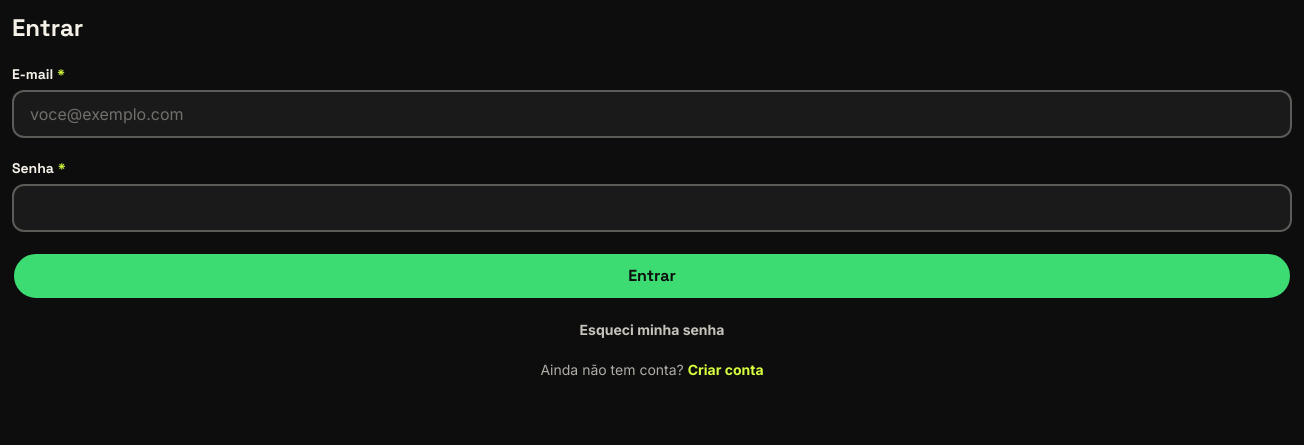
Test: LoginForm (U01) › mostra erros claros com campos vazios/inválidos (RF09)
In the field labelled "E-mail*": point(652, 114) [12,90,1292,138], type "invalido"
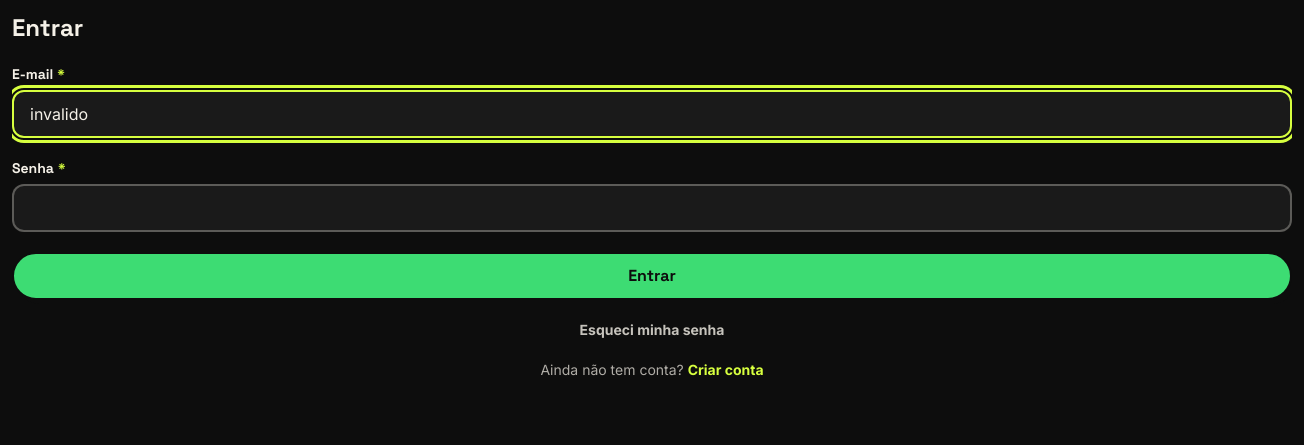
Click the button "Entrar": point(652, 276) [12,252,1292,300]
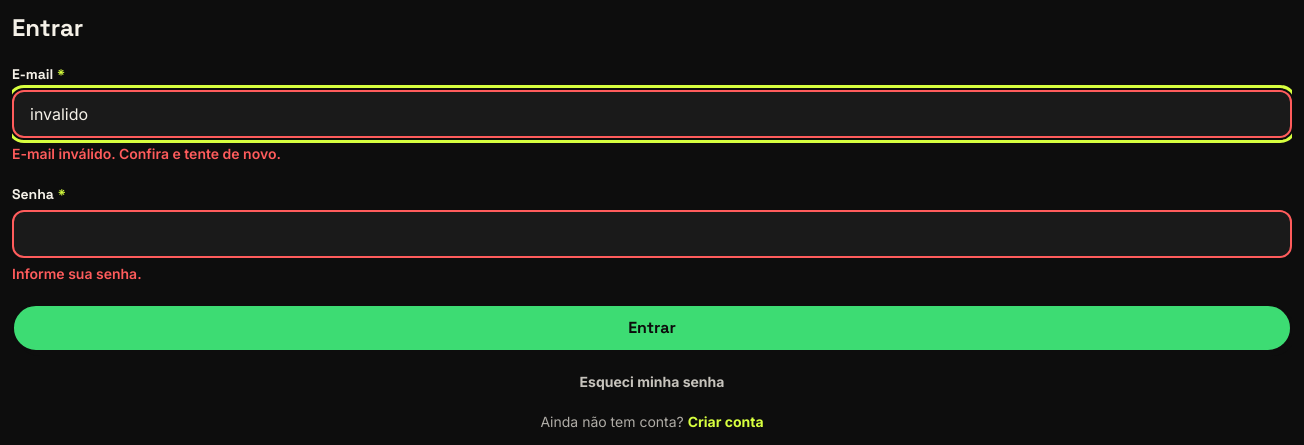
Expected: the text "E-mail inválido. Confira e tente de novo." is shown, [12,145,281,162]
Expected: the text "Informe sua senha." is shown, [12,265,142,282]
